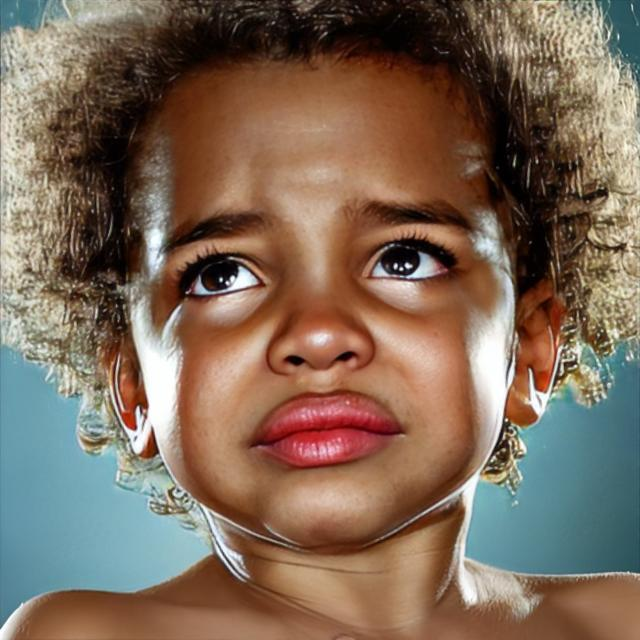sad: (134, 52, 517, 550)
